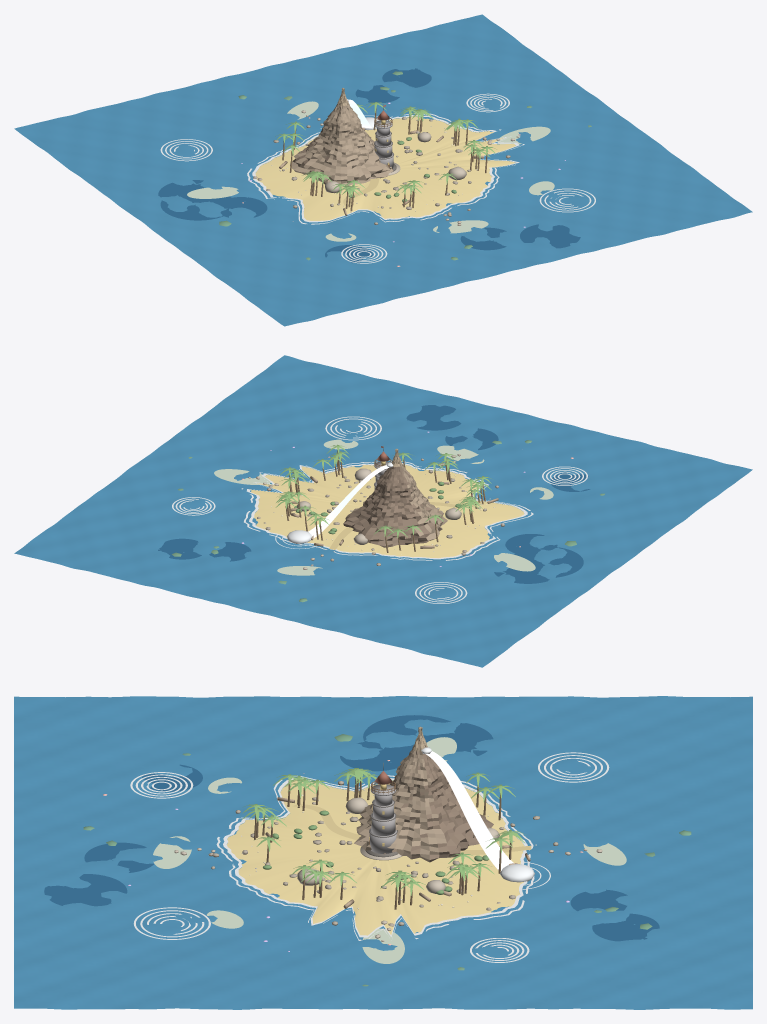
Rendered from Map3.fbx.
3 renders of one model, top to bottom at view 1: azimuth 30°, elevation 25°; view 2: azimuth 150°, elevation 25°; view 3: azimuth 270°, elevation 25°, orthographic. The views are drawn at different scales.
Visible parts, largest first — view 1: A3_Ocean_Surface, A3_Sand_Island, A3_Mountain, A3_FoamShore, A3_OceanDeep_00, A3_OceanDeep_07, A3_FoamShore_Outer, A3_OceanDeep_04, A3_OceanDeep_05; view 2: A3_Ocean_Surface, A3_Sand_Island, A3_Mountain, A3_FoamShore, A3_OceanDeep_07, A3_OceanDeep_00, A3_FoamShore_Outer, A3_OceanDeep_05, A3_OceanDeep_04, A3_WaterfallStream; view 3: A3_Ocean_Surface, A3_Sand_Island, A3_Mountain, A3_WaterfallStream, A3_FoamShore, A3_OceanDeep_00, A3_OceanDeep_05, A3_OceanDeep_04, A3_OceanDeep_07, A3_FoamShore_Outer, A3_OceanDeep_02, A3_OceanDeep_06 (+5 smaller).
Boxes of the visible parts, left/top/right/bottom form: A3_Ocean_Surface: left=14, top=14, right=752, bottom=326; A3_Sand_Island: left=255, top=116, right=515, bottom=220; A3_Mountain: left=290, top=88, right=393, bottom=185; A3_FoamShore: left=252, top=114, right=519, bottom=222; A3_OceanDeep_00: left=520, top=224, right=580, bottom=248; A3_OceanDeep_07: left=160, top=189, right=235, bottom=220; A3_FoamShore_Outer: left=247, top=113, right=524, bottom=224; A3_OceanDeep_04: left=158, top=180, right=227, bottom=209; A3_OceanDeep_05: left=382, top=68, right=431, bottom=87; A3_Ocean_Surface: left=14, top=355, right=752, bottom=667; A3_Sand_Island: left=250, top=464, right=524, bottom=558; A3_Mountain: left=343, top=448, right=447, bottom=547; A3_FoamShore: left=246, top=462, right=527, bottom=559; A3_OceanDeep_07: left=512, top=546, right=583, bottom=578; A3_OceanDeep_00: left=406, top=405, right=461, bottom=430; A3_FoamShore_Outer: left=241, top=460, right=533, bottom=560; A3_OceanDeep_05: left=158, top=538, right=201, bottom=559; A3_OceanDeep_04: left=494, top=554, right=561, bottom=583; A3_WaterfallStream: left=308, top=465, right=389, bottom=539; A3_Ocean_Surface: left=14, top=696, right=752, bottom=1009; A3_Sand_Island: left=227, top=780, right=524, bottom=935; A3_Mountain: left=354, top=726, right=493, bottom=862; A3_WaterfallStream: left=425, top=751, right=513, bottom=871; A3_FoamShore: left=223, top=778, right=527, bottom=937; A3_OceanDeep_00: left=44, top=874, right=127, bottom=906; A3_OceanDeep_05: left=592, top=913, right=659, bottom=941; A3_OceanDeep_04: left=400, top=721, right=493, bottom=755; A3_OceanDeep_07: left=363, top=715, right=465, bottom=757; A3_FoamShore_Outer: left=216, top=775, right=534, bottom=940; A3_OceanDeep_02: left=340, top=741, right=408, bottom=771; A3_OceanDeep_06: left=84, top=842, right=153, bottom=872.
Size of the model in its own units: 14000 by 2370 by 14000.
